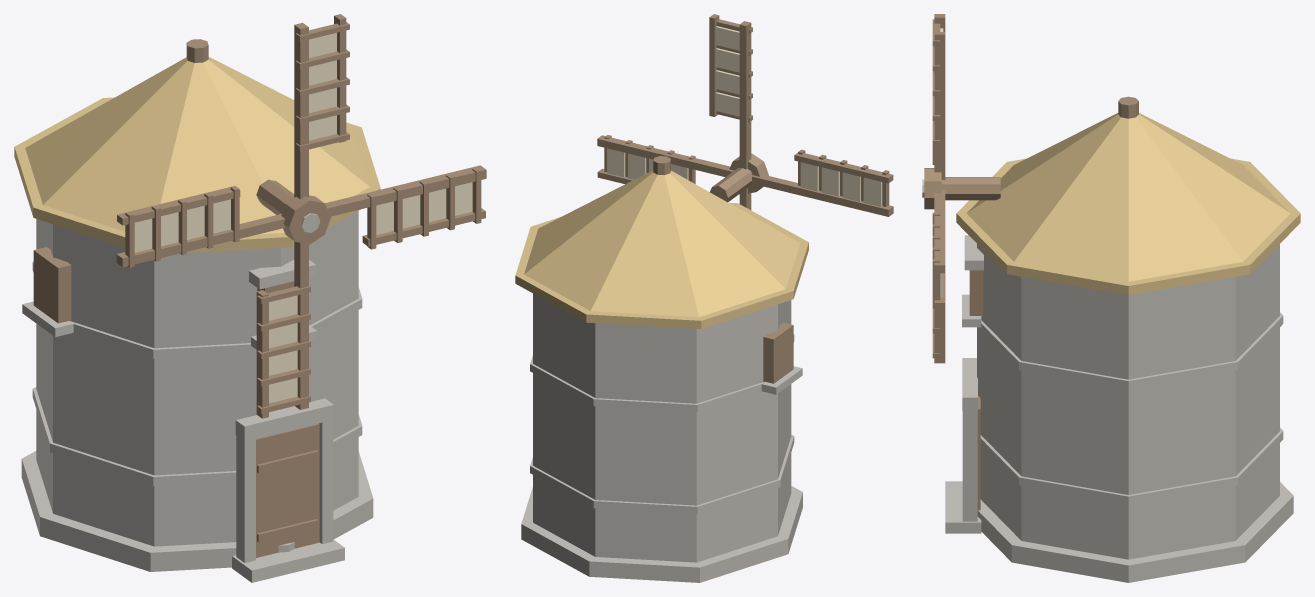
Rendered from mill.glb.
3 views of the same model, side by side, from view 1: azimuth 30°, elevation 25°; view 2: azimuth 150°, elevation 25°; view 3: azimuth 270°, elevation 25° (orthographic). The views are drawn at different scales.
Visible parts, largest first — view 1: mill_stone, mill_roof, mill_wood, mill_sail; view 2: mill_stone, mill_roof, mill_wood, mill_sail; view 3: mill_stone, mill_roof, mill_wood.
Part boxes in pixels (x1,y1,x2,y2): mill_stone: (21, 211, 373, 582); mill_roof: (14, 57, 380, 252); mill_wood: (33, 14, 486, 557); mill_sail: (134, 33, 472, 403); mill_stone: (521, 293, 802, 582); mill_roof: (515, 170, 808, 328); mill_wood: (597, 14, 893, 383); mill_sail: (607, 26, 882, 206); mill_stone: (922, 179, 1293, 582); mill_roof: (956, 113, 1300, 295); mill_wood: (924, 14, 1138, 510).
Size of the model in its own units: 1.85 by 2.66 by 1.83.
